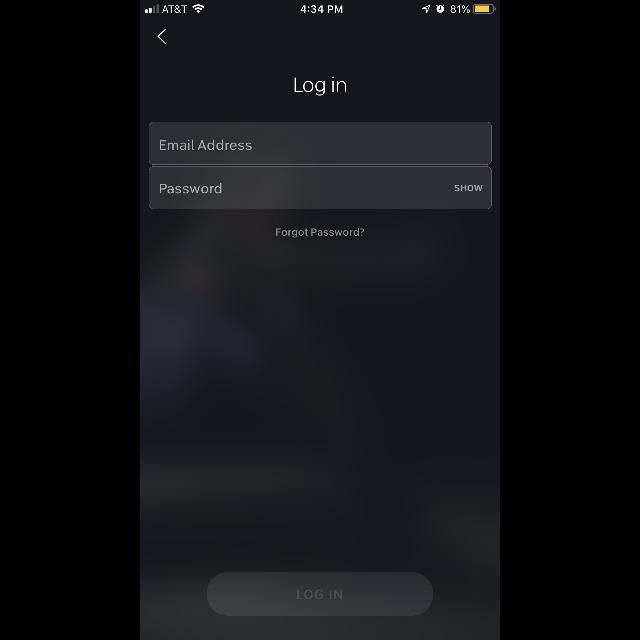icon: (158, 30, 166, 44)
input: (148, 167, 492, 210), (148, 122, 492, 164)
text: (294, 76, 346, 95), (160, 140, 252, 150), (276, 228, 364, 238), (160, 182, 222, 194), (454, 184, 482, 192)
textbutton: (207, 572, 433, 616)
uppertaskbar: (140, 0, 500, 14)
